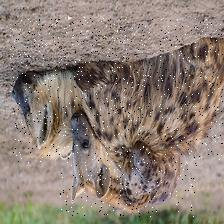hyena: (10, 19, 224, 163), (60, 110, 197, 217)
